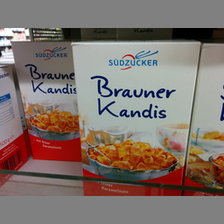sugar: (71, 39, 200, 196), (10, 39, 81, 162)
